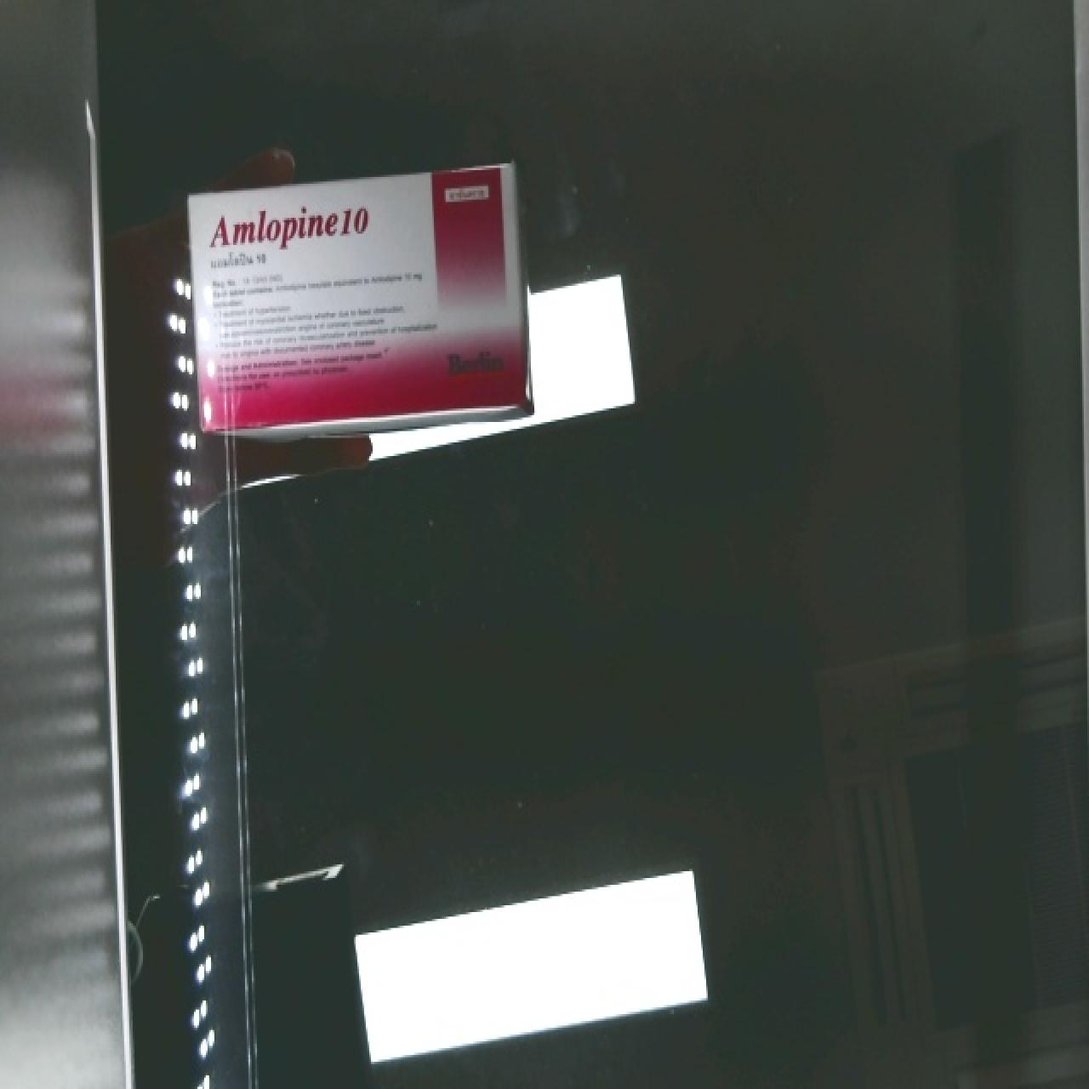medicine_label_obb: (187, 178, 401, 265)
